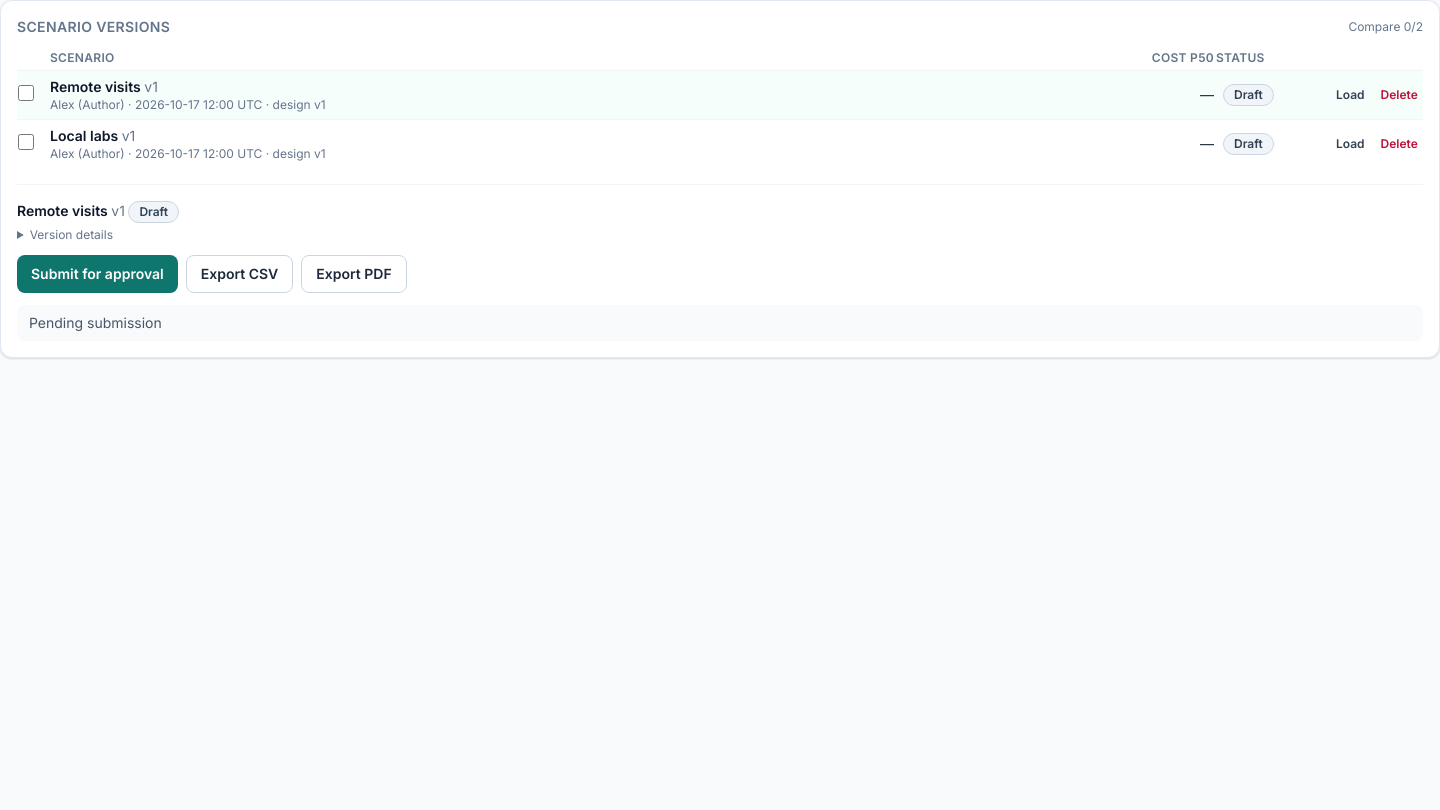
Test: saved scenario deletion › removes the confirmed version from the list, selection and comparison
This screenshot has width=1440, height=810.
Click the checkbox named "Select Remote visits v1 for comparison" at {"x": 26, "y": 92}, box 18,84 -> 34,100
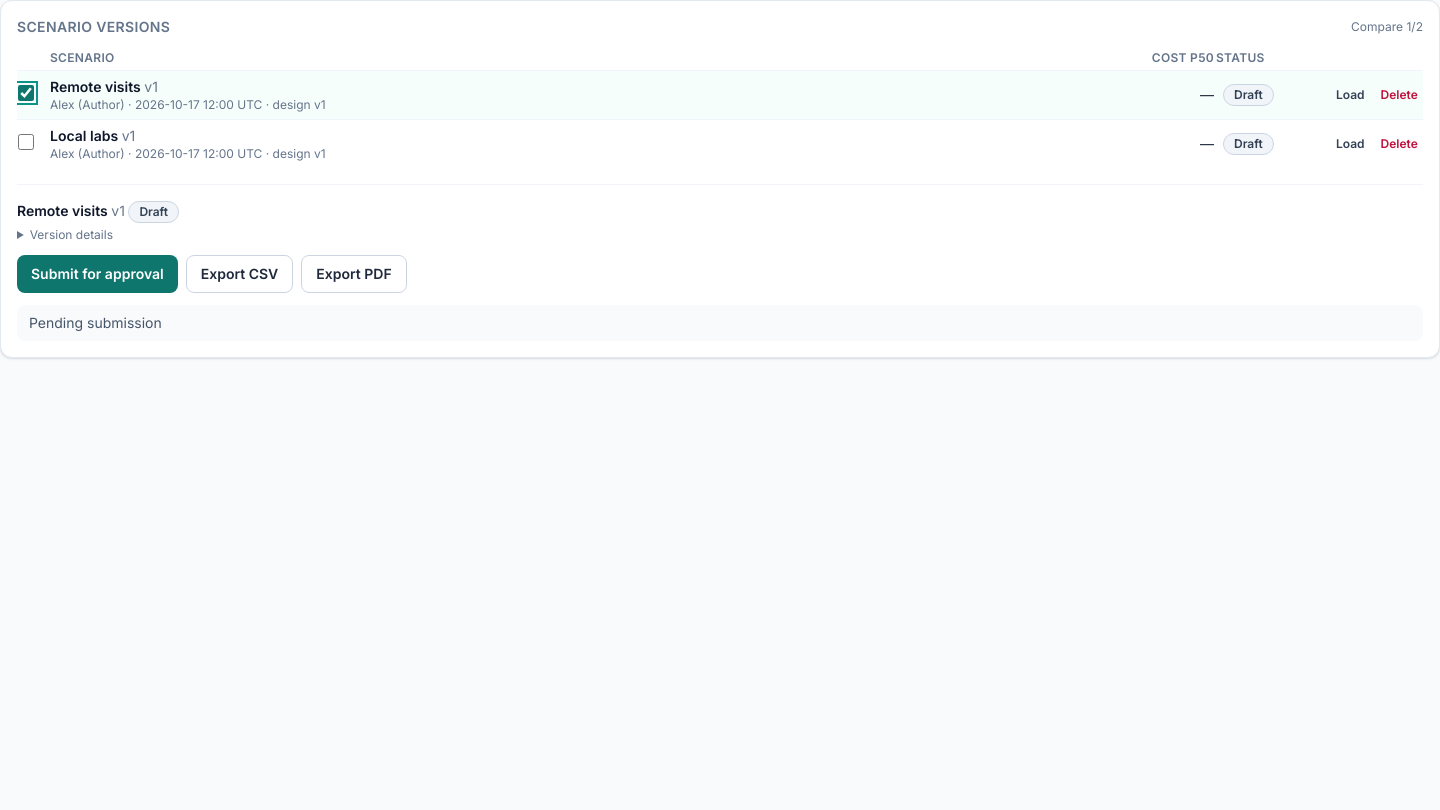
Click the checkbox named "Select Local labs v1 for comparison" at {"x": 26, "y": 142}, box 18,134 -> 34,150
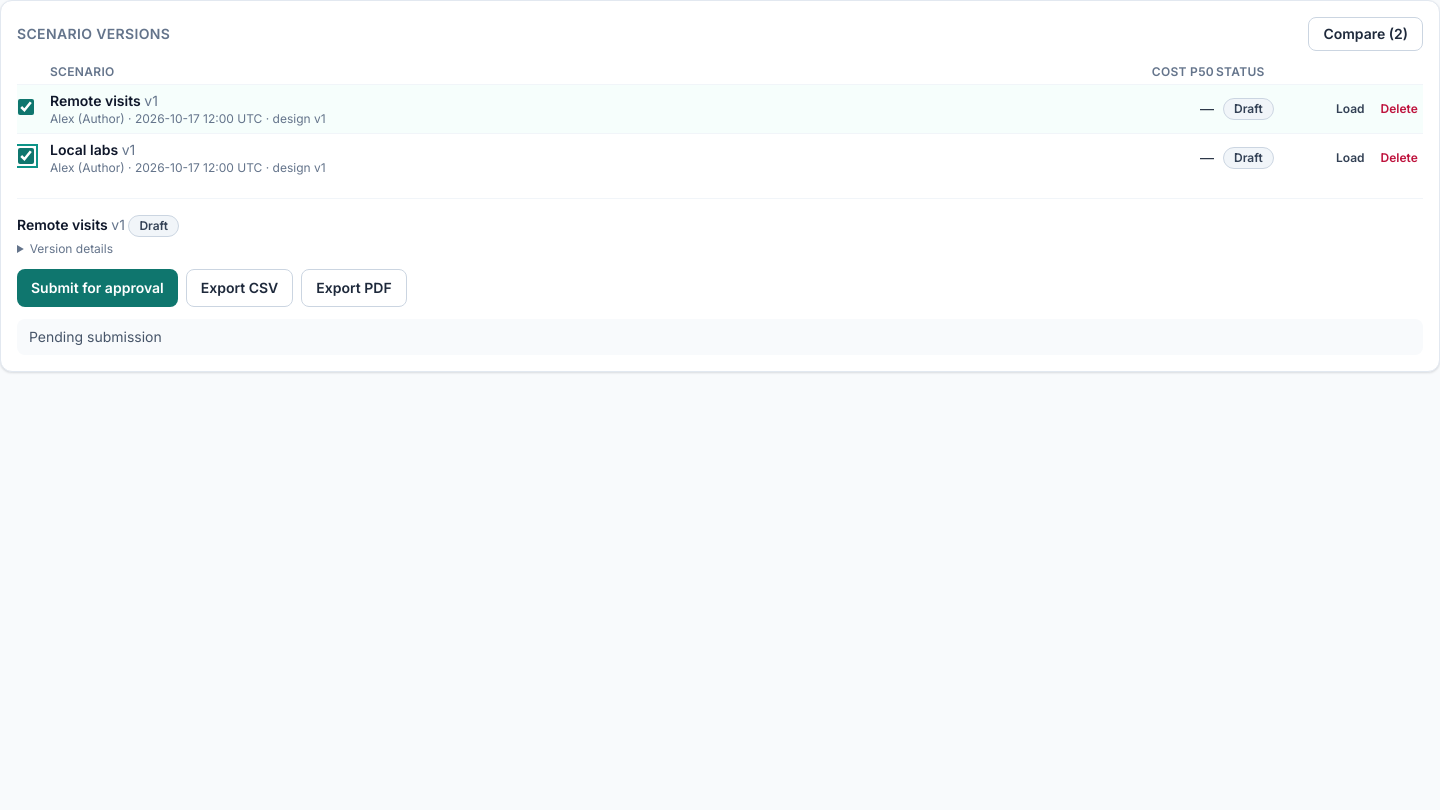
expect the link with test id "compare-selected" is shown: met, box 1308,17 -> 1423,51
Click the button with aria-label "Delete Remote visits v1" at {"x": 1399, "y": 109}, box 1373,97 -> 1426,121
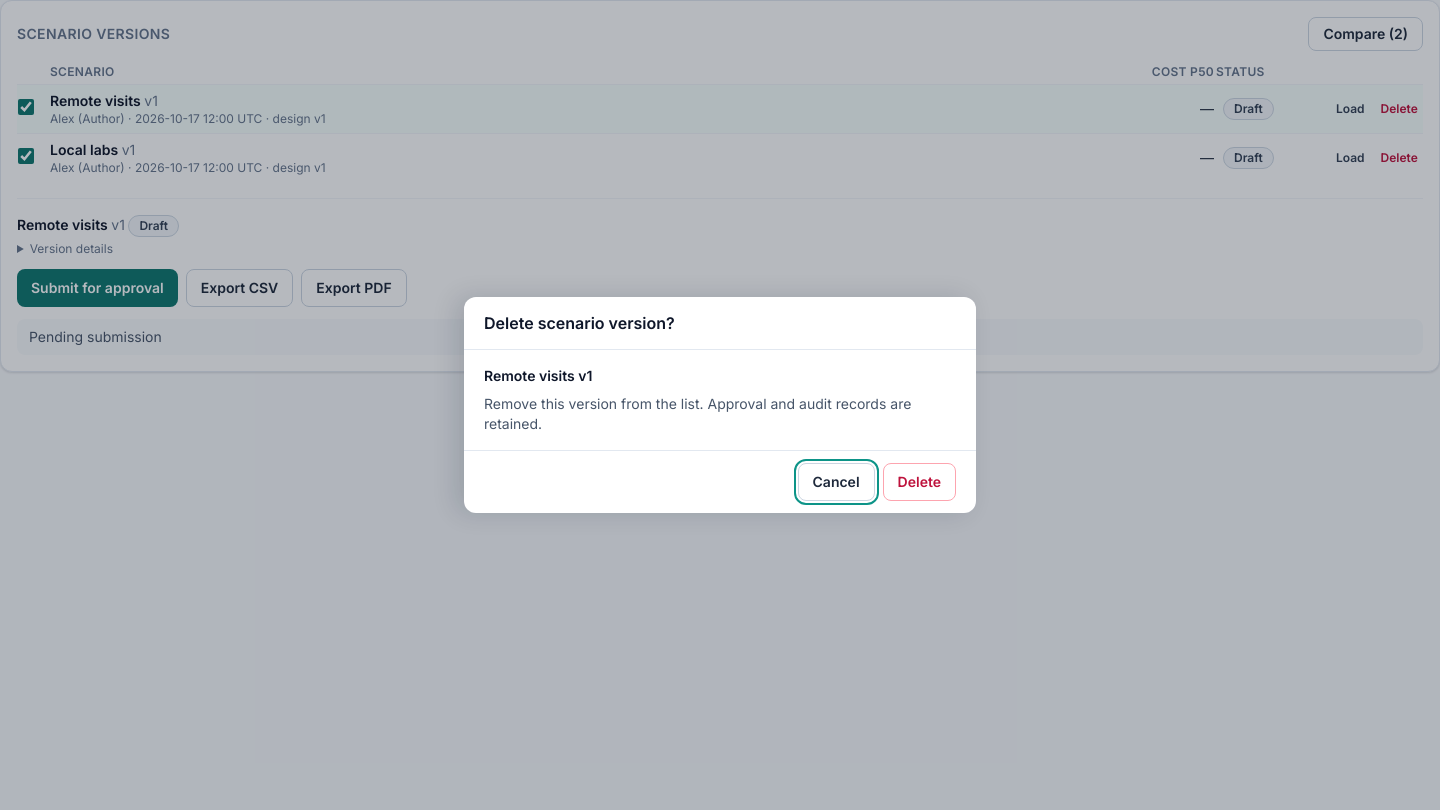
Click the button "Delete" at {"x": 919, "y": 482}, box 883,463 -> 956,501
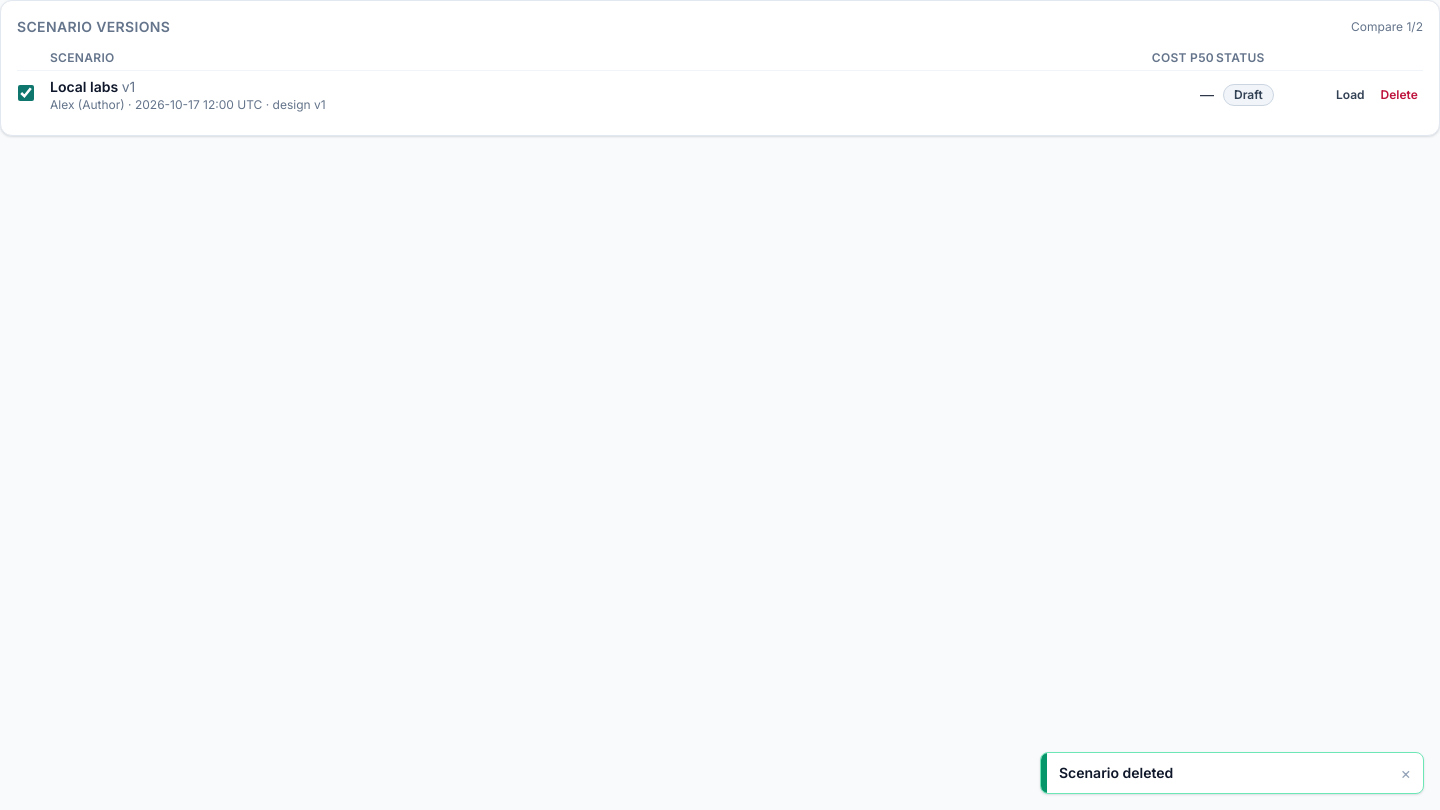
expect the dialog is gone: met
expect the button "Remote visits v1" is gone: met
expect the element with test id "selected-scenario" is gone: met
